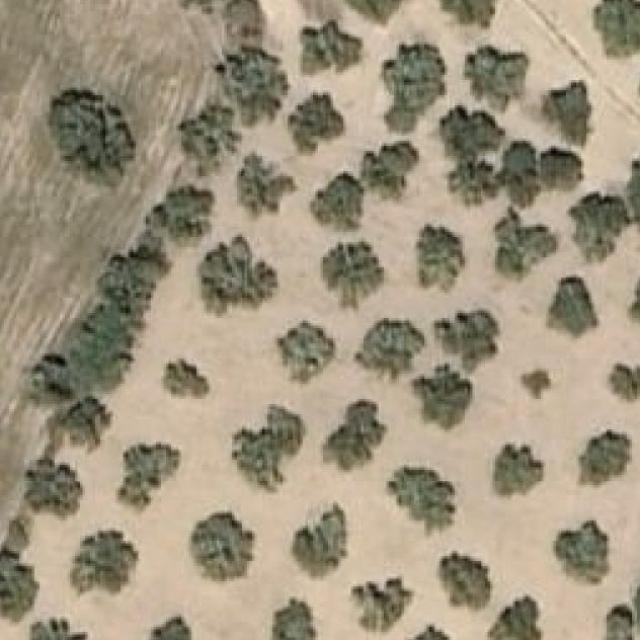Tree: (46, 87, 136, 197), (229, 404, 308, 490), (377, 42, 448, 136), (198, 235, 278, 316), (384, 465, 458, 539), (73, 305, 138, 388), (222, 44, 286, 124), (320, 399, 389, 473), (321, 239, 385, 318), (290, 502, 352, 582), (188, 512, 258, 582), (179, 100, 240, 179), (356, 318, 424, 384), (95, 240, 164, 304), (73, 528, 139, 594), (434, 308, 500, 372), (119, 442, 180, 511), (272, 321, 336, 385), (237, 154, 298, 220), (553, 518, 612, 586), (462, 48, 528, 108), (22, 455, 89, 514), (414, 225, 468, 296), (490, 214, 556, 272), (348, 579, 416, 634), (569, 194, 625, 260), (495, 133, 545, 205), (440, 551, 493, 617), (300, 19, 362, 75), (151, 179, 213, 235), (50, 394, 114, 448), (311, 171, 368, 230), (409, 374, 468, 429), (359, 139, 418, 194), (440, 108, 500, 162), (493, 443, 547, 498), (290, 95, 338, 156), (579, 429, 630, 485), (548, 278, 596, 336), (485, 593, 544, 640), (544, 83, 589, 144), (593, 0, 640, 57), (0, 549, 35, 624), (24, 351, 76, 400), (161, 359, 217, 404), (265, 596, 319, 640), (450, 161, 498, 205), (539, 146, 582, 191), (606, 361, 640, 412), (338, 0, 404, 26), (27, 616, 93, 640), (441, 0, 495, 26), (140, 616, 194, 640), (518, 364, 552, 402), (627, 154, 640, 235), (629, 272, 640, 342), (406, 627, 455, 640), (632, 581, 640, 635)
